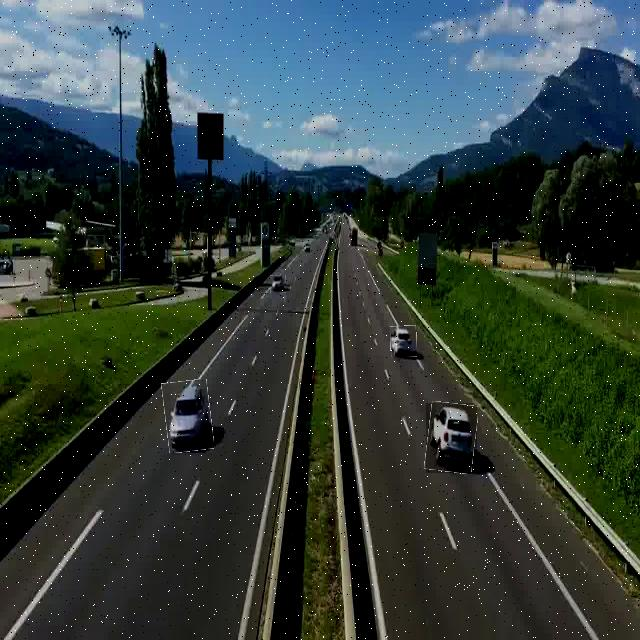Car: (426, 403, 477, 473), (163, 380, 212, 452), (391, 326, 417, 357), (270, 275, 286, 293)
